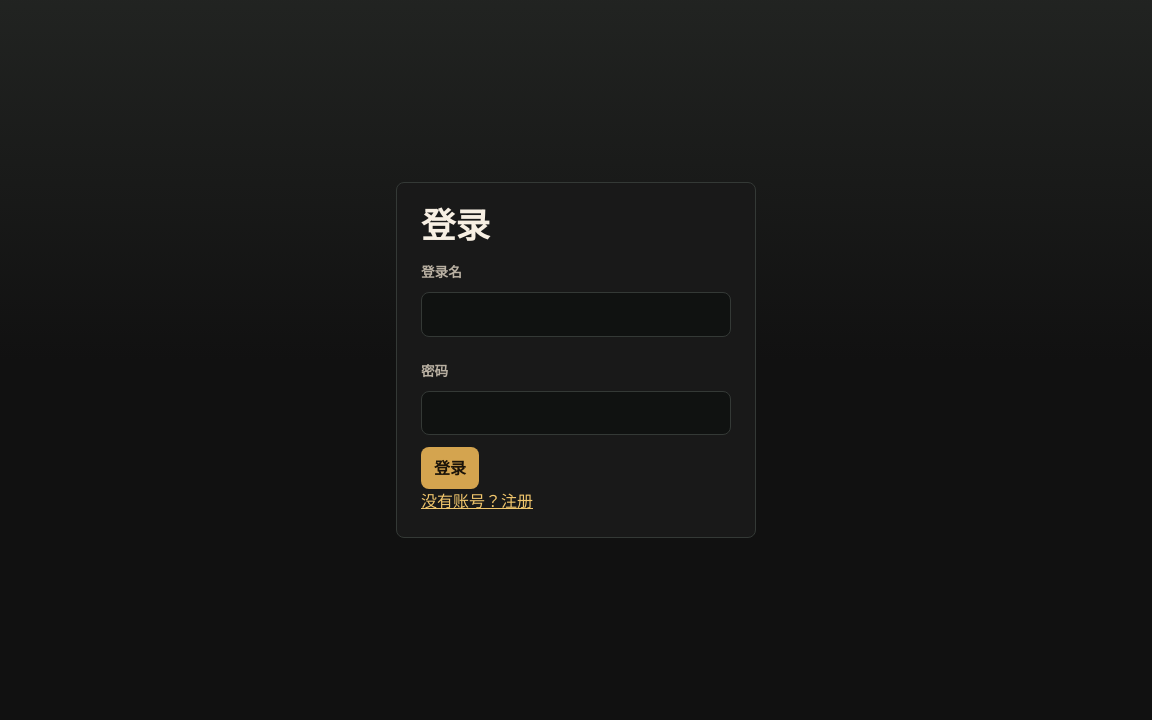
认证页面 › 登录 401 显示错误且不形成重定向循环
Type "alice" into the field labelled "登录名" at (576, 315), box 421,292 -> 731,337
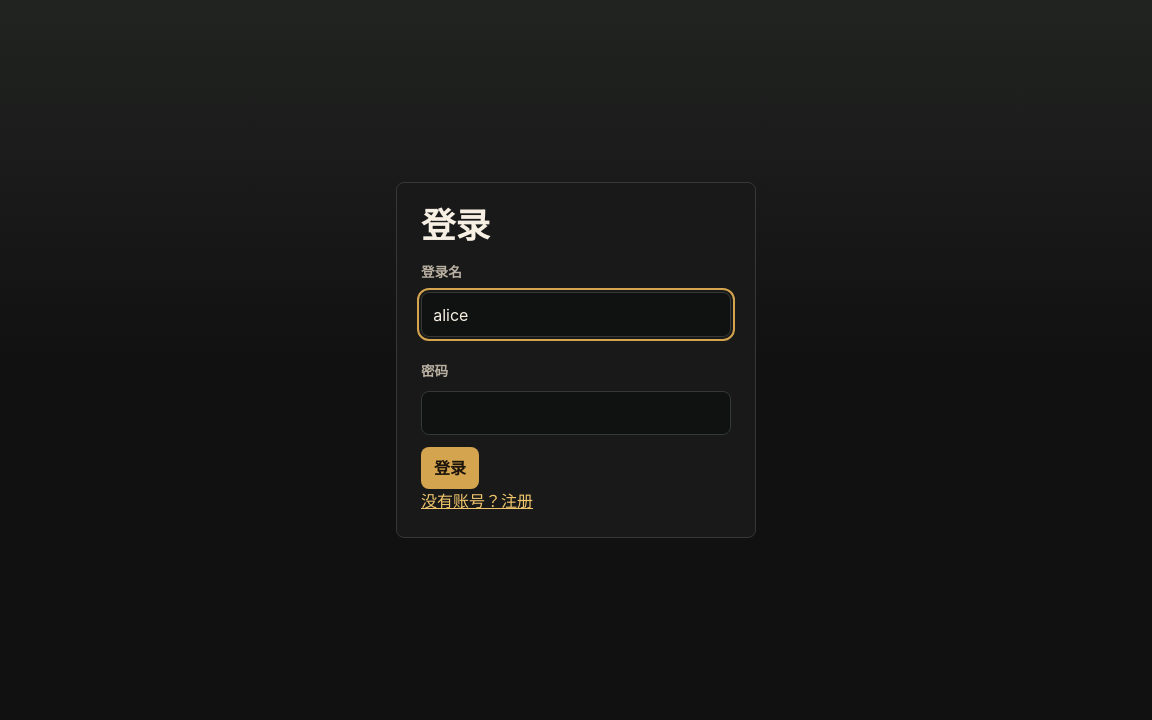
Type "wrong" into the password field labelled "密码" at (576, 413), box 421,391 -> 731,435
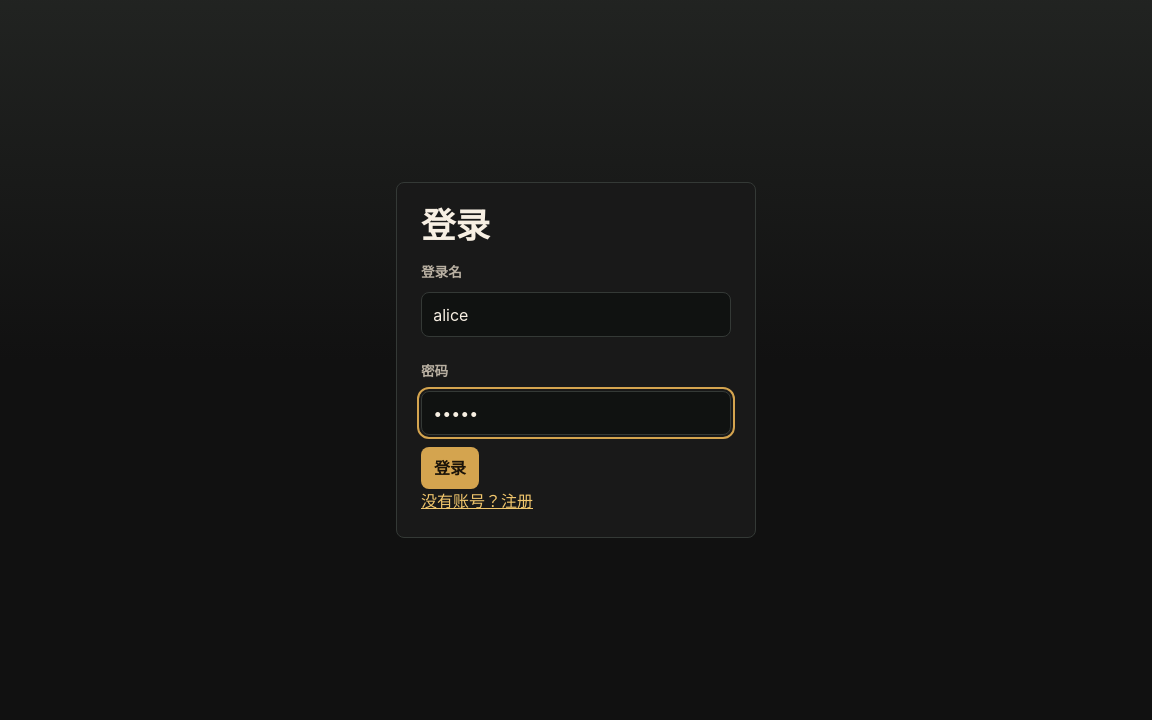
Click the button "登录" at (450, 468), box 421,447 -> 479,489
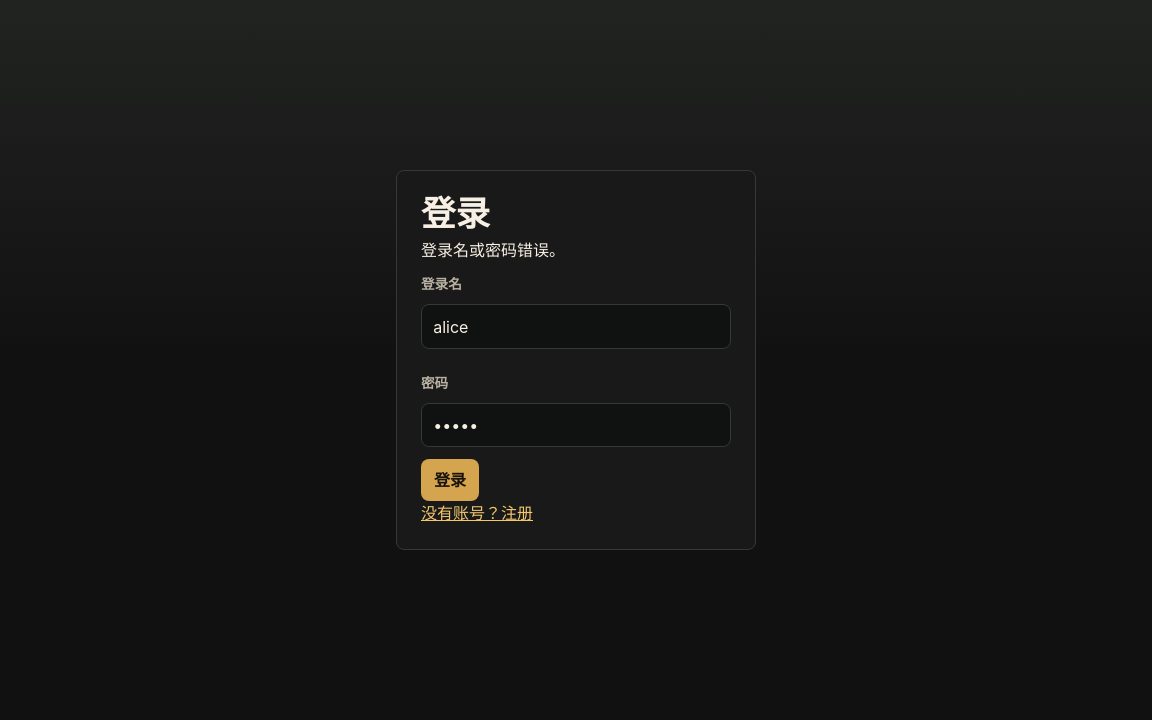
Check: the message reads "登录名或密码错误。", box 421,240 -> 565,260
